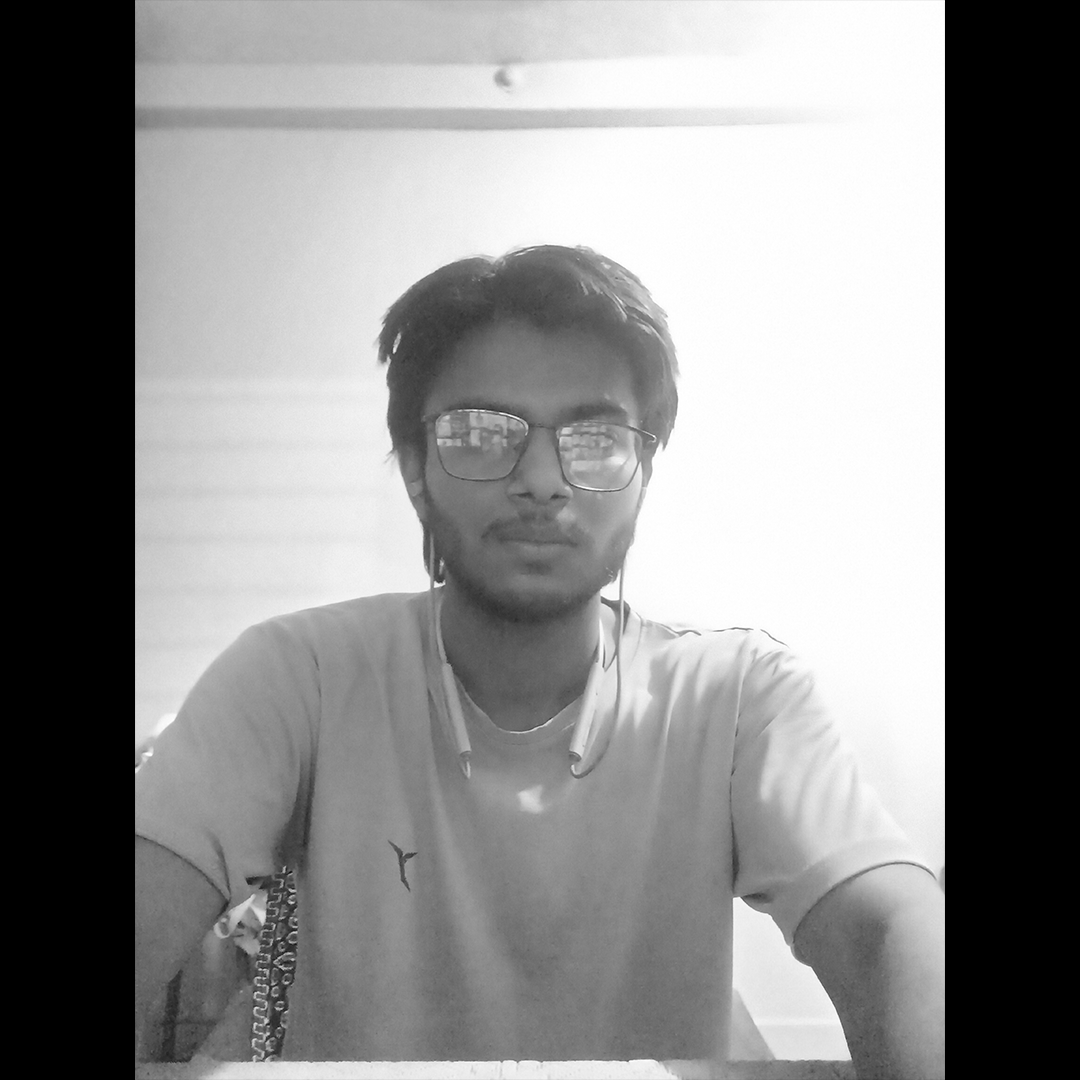Focused: (238, 144, 869, 965)
